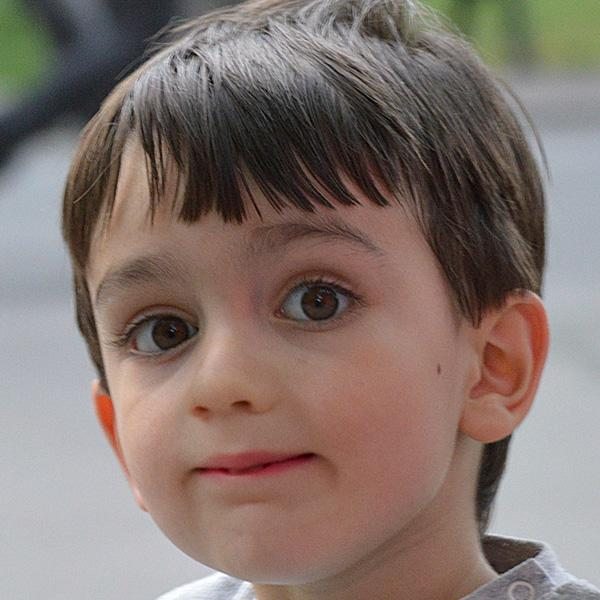Eyes: (268, 265, 371, 353), (111, 294, 208, 372)
